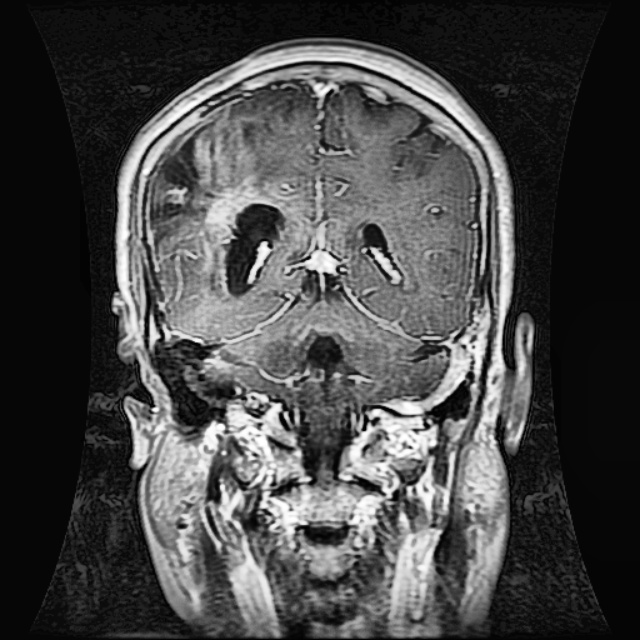Meningioma: (143, 107, 288, 294)
